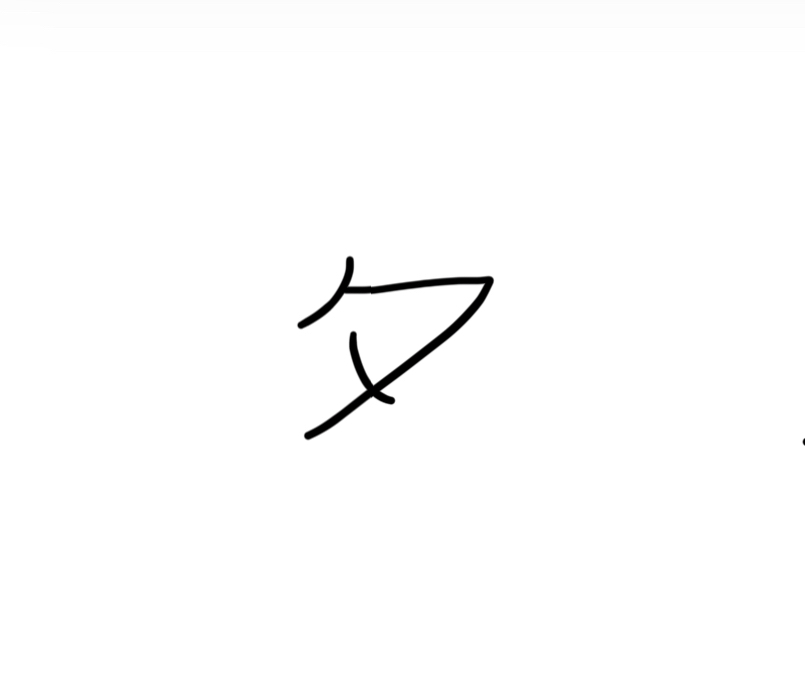ta: (277, 253, 511, 443)
